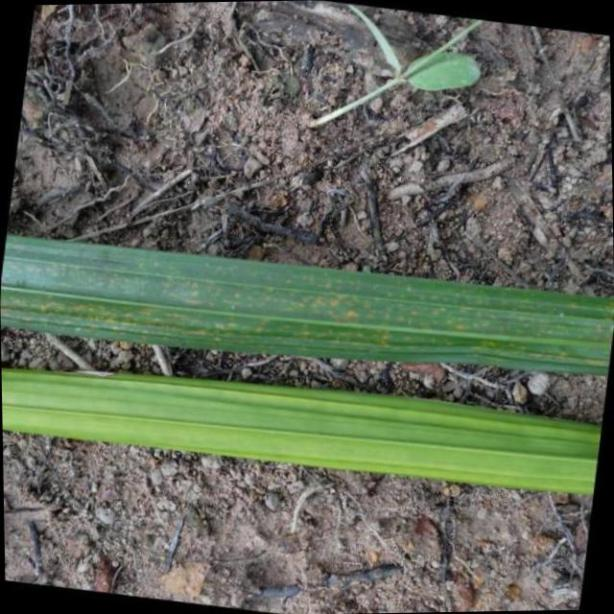nitrogen: (1, 225, 614, 366), (0, 364, 614, 492)
